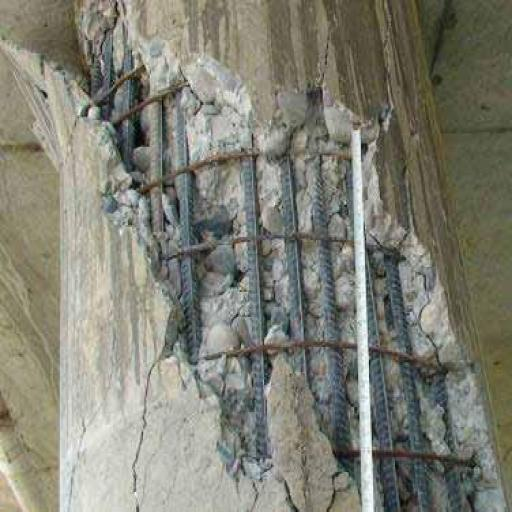spalling: (76, 21, 501, 512)
